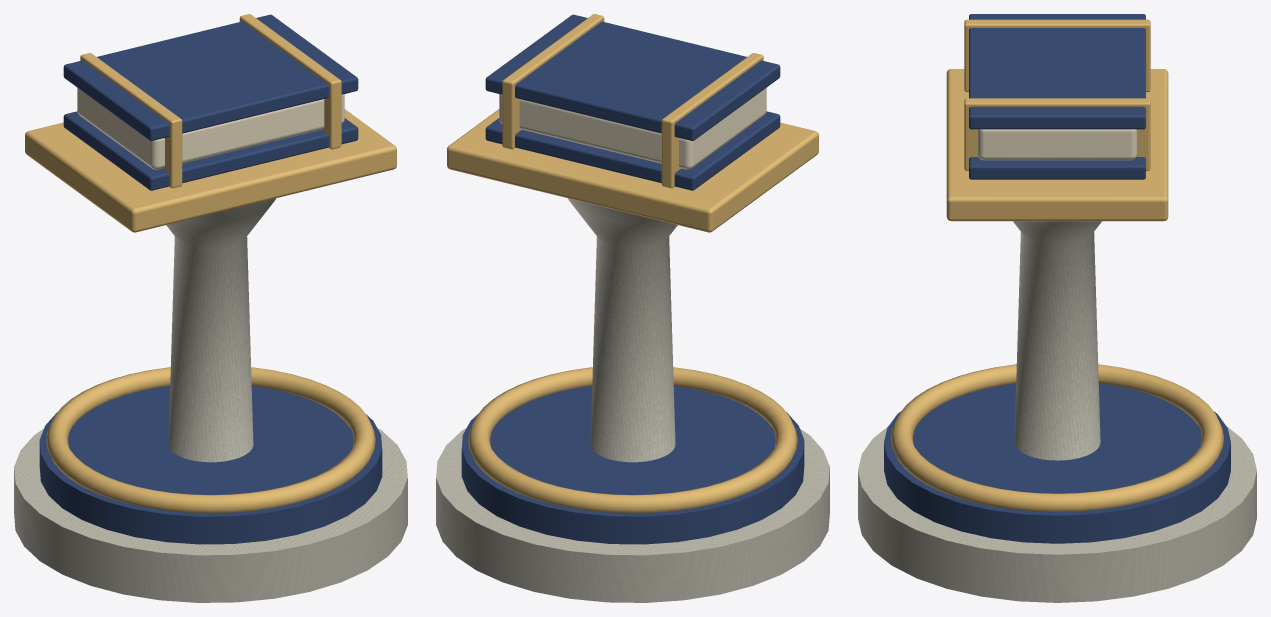
Rendered from arcane-academy-and-spell-trials-grimoire-stand-81f79241__28293.glb.
3 views of the same model, side by side, from view 1: azimuth 30°, elevation 25°; view 2: azimuth 150°, elevation 25°; view 3: azimuth 270°, elevation 25° (orthographic).
Parts seen in each view (by area): view 1: grimoire-stand; view 2: grimoire-stand; view 3: grimoire-stand.
Boxes of the visible parts, x1,y1,x2,y2 form: grimoire-stand: [14, 14, 407, 602]; grimoire-stand: [436, 14, 829, 602]; grimoire-stand: [858, 14, 1256, 602].
Bounding box in the file's own units: 0.9 × 1.14 × 0.9.
4 materials, 1 textured.
